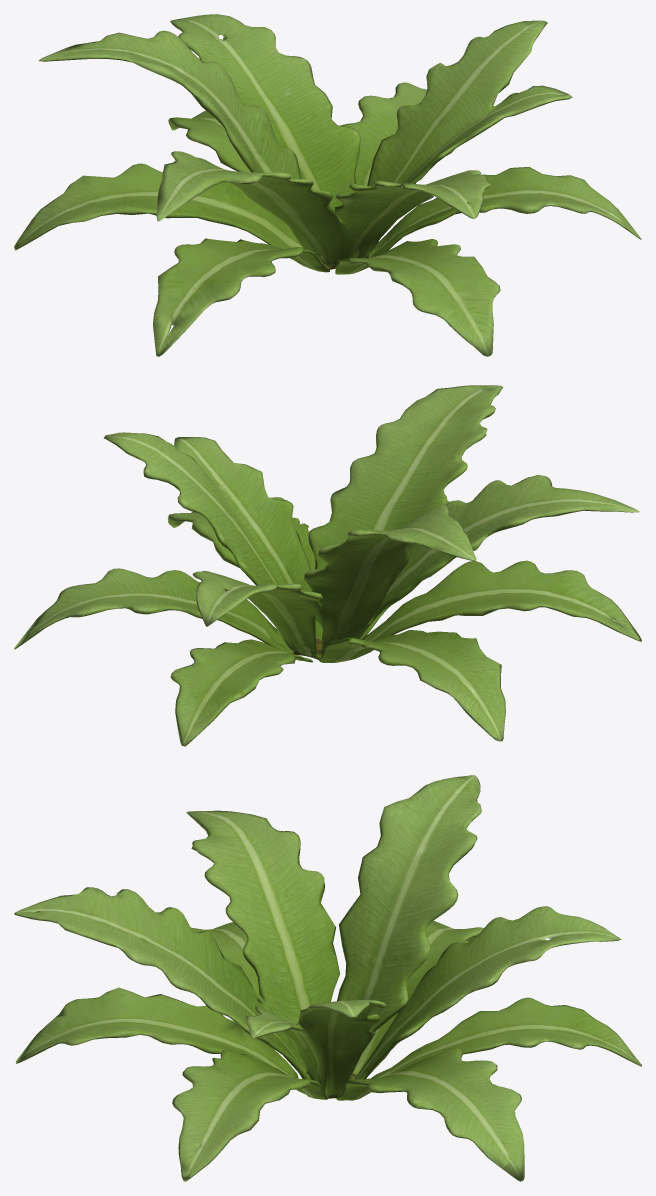
File: plant_grass.glb
3 views of the same model, one above another, from view 1: azimuth 30°, elevation 25°; view 2: azimuth 150°, elevation 25°; view 3: azimuth 270°, elevation 25° (orthographic). The views are drawn at different scales.
Visible parts, largest first — view 1: Staurogyne Repens; view 2: Staurogyne Repens; view 3: Staurogyne Repens.
Boxes of the visible parts, x1,y1,x2,y2 form: Staurogyne Repens: [14, 14, 641, 356]; Staurogyne Repens: [14, 385, 641, 746]; Staurogyne Repens: [14, 775, 641, 1181].
Size of the model in its own units: 2.37 by 1 by 2.68.
1 material, 1 textured.
